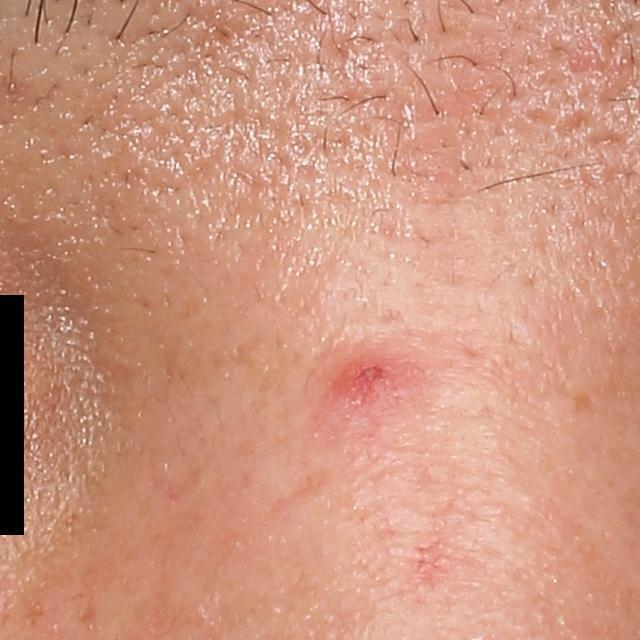atrophic_scar: (270, 466, 330, 514)
papule: (327, 345, 409, 402)
